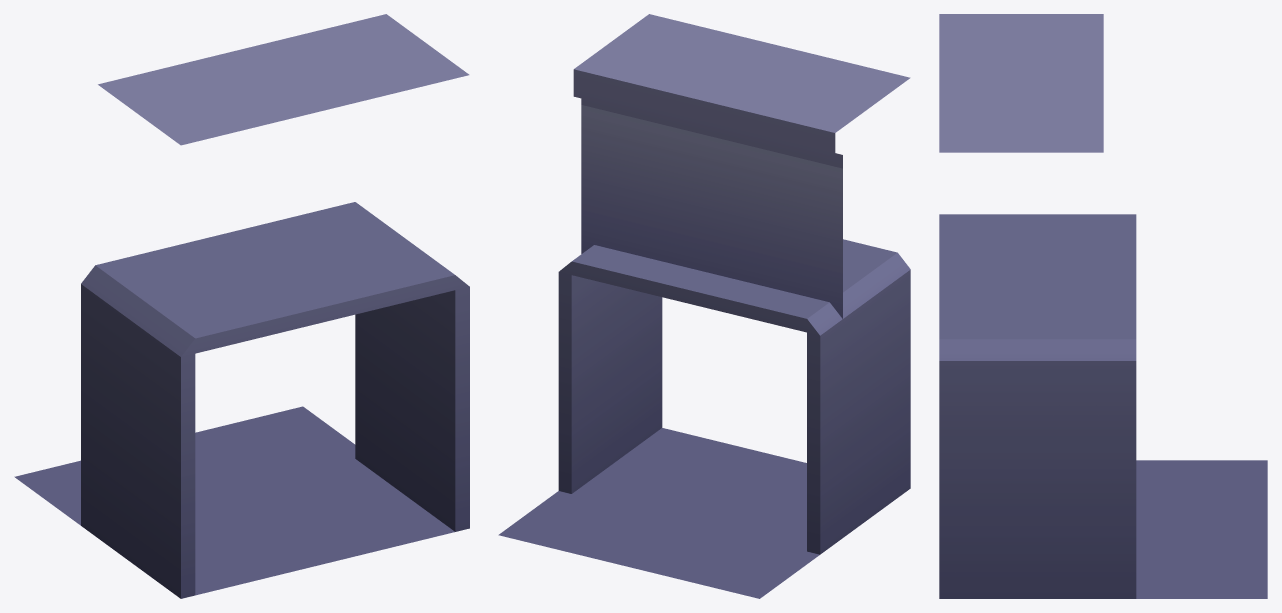
File: kenney-conveyor-structure-doorway-wide.glb
3 views of the same model, side by side, from view 1: azimuth 30°, elevation 25°; view 2: azimuth 150°, elevation 25°; view 3: azimuth 270°, elevation 25° (orthographic). The views are drawn at different scales.
Parts seen in each view (by area): view 1: structure-doorway-wide; view 2: structure-doorway-wide; view 3: structure-doorway-wide.
Boxes of the visible parts, box(x1,y1,x2,y2) form: structure-doorway-wide: box(14, 14, 469, 598); structure-doorway-wide: box(498, 14, 910, 598); structure-doorway-wide: box(939, 14, 1267, 598).
Bounding box in the file's own units: 2 × 3 × 2.
Materials: 1 (1 with a texture image).
